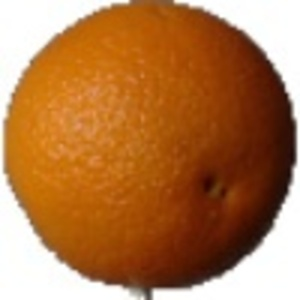laranja: (6, 3, 299, 298)
